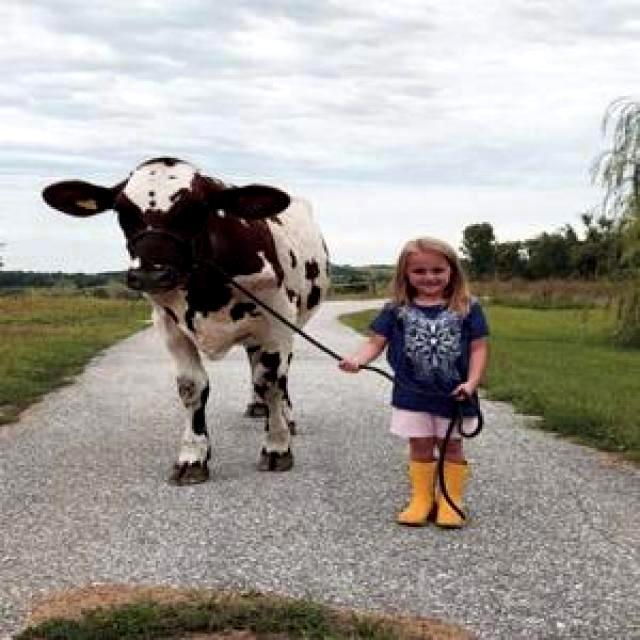COW: (42, 158, 330, 484)
